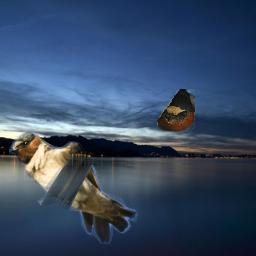Swallow: (9, 131, 138, 244), (157, 89, 195, 132)
